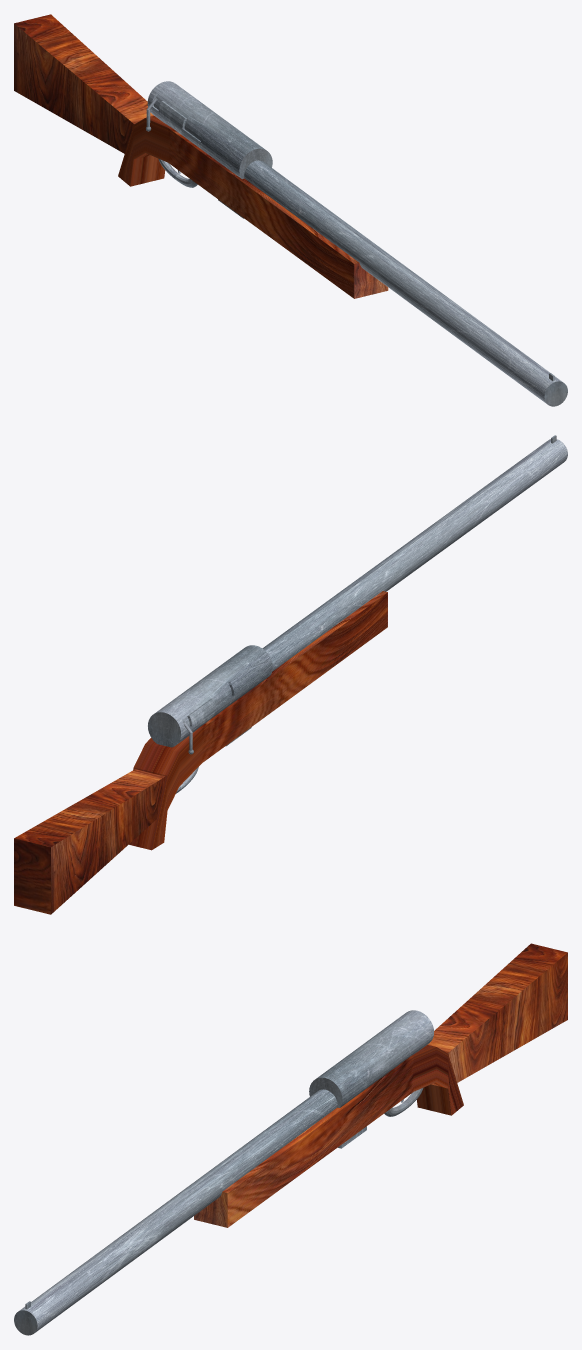
Rendered from gun.glb.
The picture shows the model from 3 angles, top to bottom: view 1: azimuth 30°, elevation 25°; view 2: azimuth 150°, elevation 25°; view 3: azimuth 330°, elevation 25°; orthographic projection.
Parts seen in each view (by area): view 1: Cube, Cylinder, Cube.001, Cylinder.001; view 2: Cube.001, Cube, Cylinder, Cylinder.001; view 3: Cube, Cylinder, Cube.001, Cylinder.001.
Part boxes in pixels (bbox=[...]): Cube: bbox=[118, 116, 388, 298]; Cylinder: bbox=[244, 160, 567, 406]; Cube.001: bbox=[14, 14, 153, 153]; Cylinder.001: bbox=[147, 81, 272, 178]; Cube.001: bbox=[14, 769, 165, 914]; Cube: bbox=[129, 591, 387, 850]; Cylinder: bbox=[262, 439, 567, 671]; Cylinder.001: bbox=[148, 645, 272, 747]; Cube: bbox=[194, 1045, 463, 1227]; Cylinder: bbox=[14, 1089, 337, 1335]; Cube.001: bbox=[427, 943, 567, 1082]; Cylinder.001: bbox=[309, 1010, 434, 1107].
Size of the model in its own units: 2.53 by 6.5 by 54.42.
10 materials, 10 textured.
